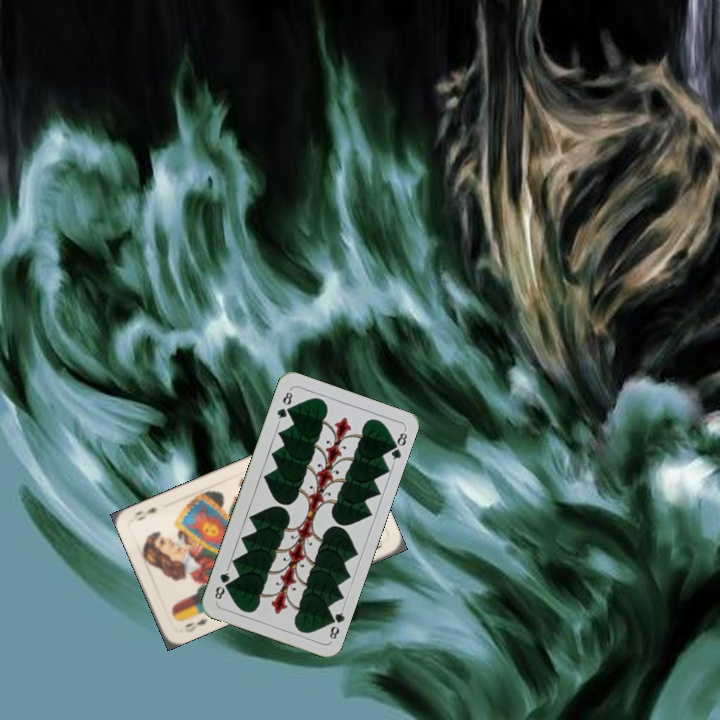EO: (181, 614, 211, 630)
G8: (324, 604, 347, 644), (273, 386, 295, 425)
